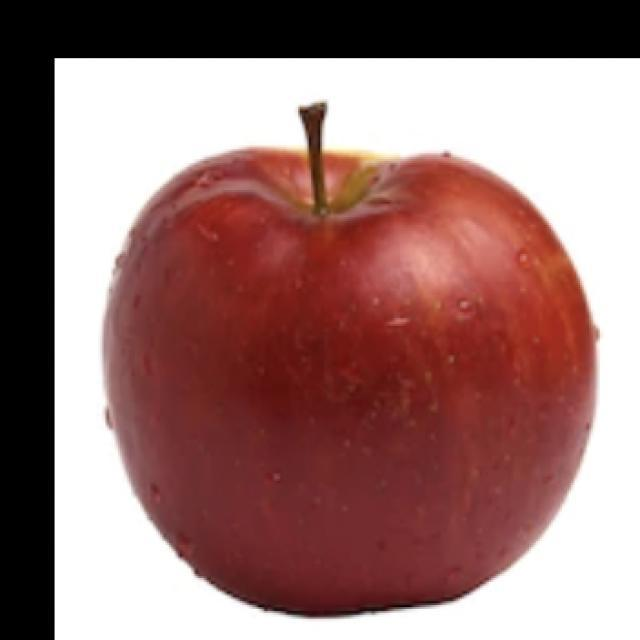Fresh Apple: (101, 137, 607, 620)
